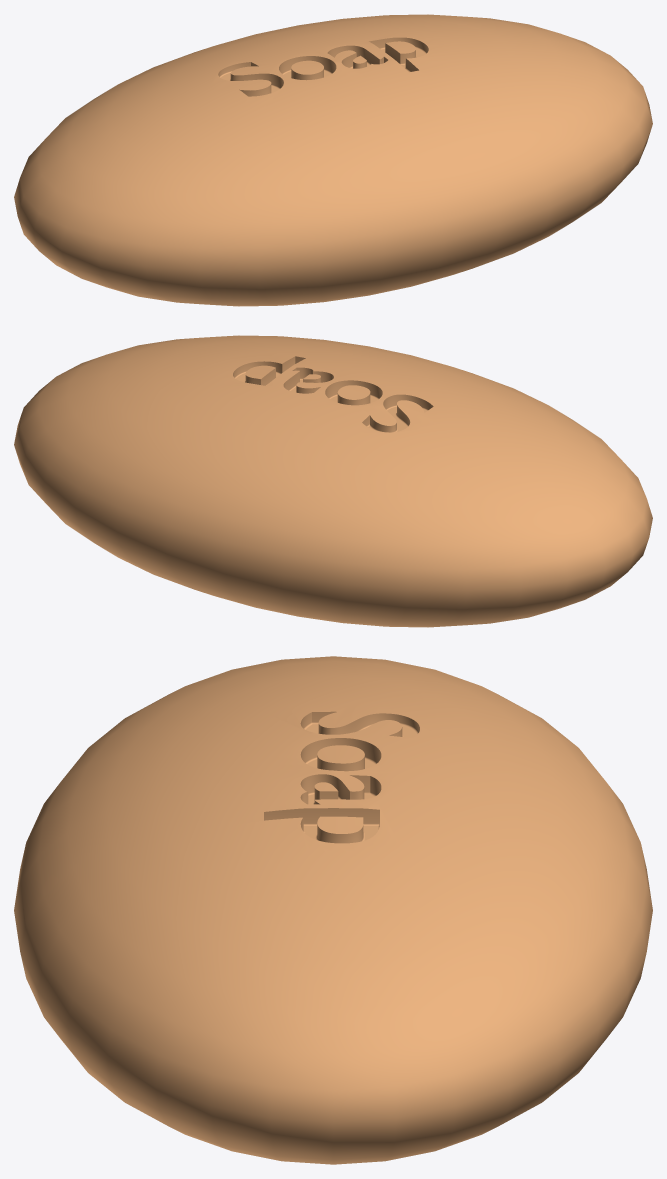
Rendered from Seife.fbx.
3 views of the same model, one above another, from view 1: azimuth 30°, elevation 25°; view 2: azimuth 150°, elevation 25°; view 3: azimuth 270°, elevation 25° (orthographic). The views are drawn at different scales.
Visible parts, largest first — view 1: Seife; view 2: Seife; view 3: Seife.
Boxes of the visible parts, bbox=[...] form: Seife: bbox=[14, 14, 652, 306]; Seife: bbox=[14, 335, 652, 627]; Seife: bbox=[14, 656, 652, 1164].
Bounding box in the file's own units: 604 × 187 × 386.
